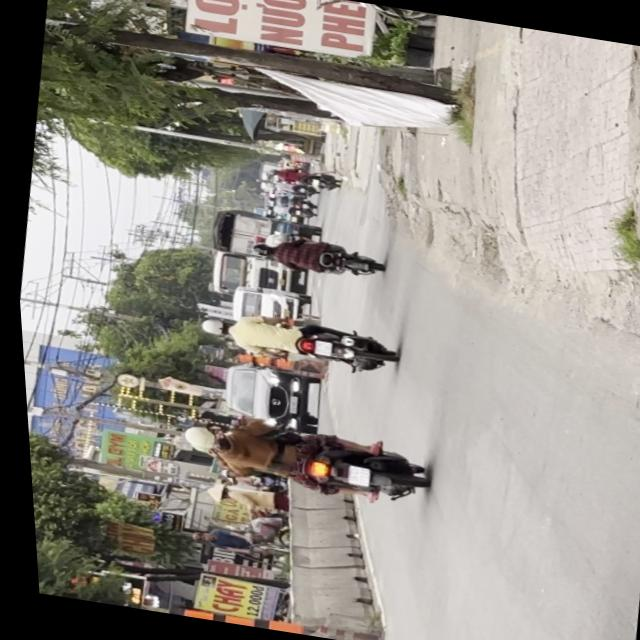helmet: (171, 424, 219, 456)
licenseplate: (166, 408, 429, 514)
nohelmet: (337, 466, 363, 487)
